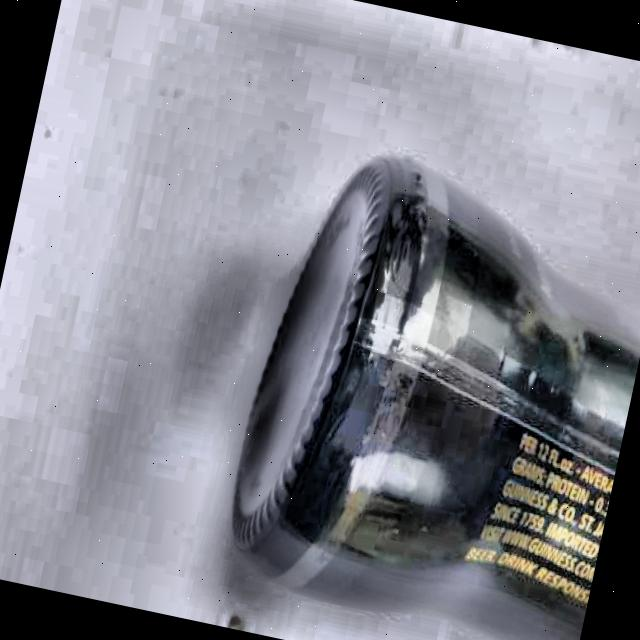glass: (202, 120, 640, 640)
